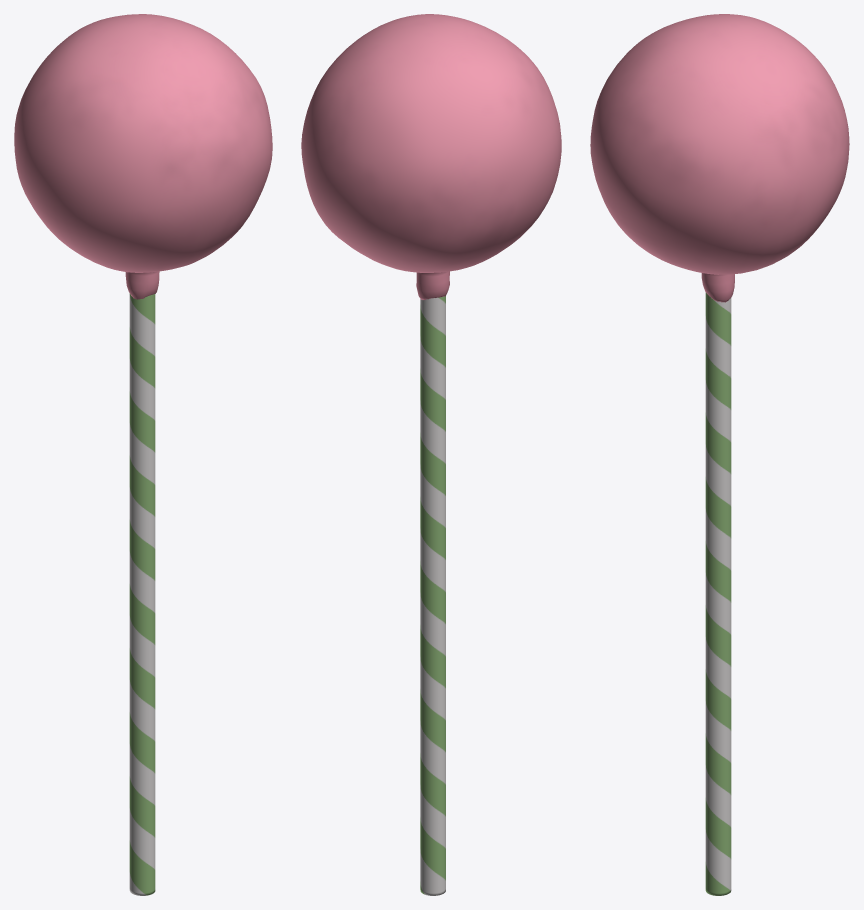
The model's file is Cake_Pop.gltf.
3 views of the same model, side by side, from view 1: azimuth 30°, elevation 25°; view 2: azimuth 150°, elevation 25°; view 3: azimuth 270°, elevation 25° (orthographic).
Parts seen in each view (by area): view 1: cake_pop_grp; view 2: cake_pop_grp; view 3: cake_pop_grp.
Part boxes in pixels (bbox=[...]): cake_pop_grp: bbox=[14, 14, 272, 895]; cake_pop_grp: bbox=[301, 14, 561, 895]; cake_pop_grp: bbox=[590, 14, 849, 895].
Size of the model in its own units: 3.65 by 13.44 by 3.65.
Materials: 1 (1 with a texture image).
